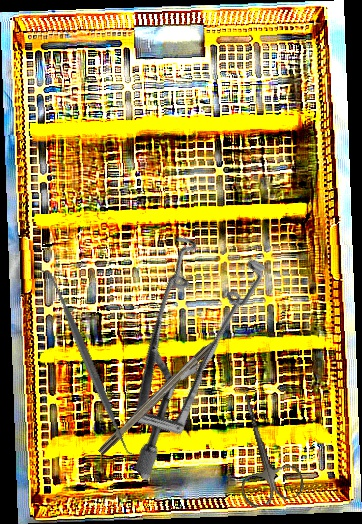Hook Surgical: (96, 324, 233, 456)
Iris Scissors: (217, 384, 307, 511)
Spatula Surgical: (37, 262, 139, 462)
Speculum: (38, 205, 325, 482)
